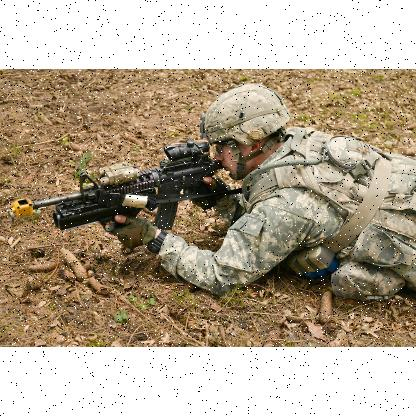gun: (14, 132, 240, 272)
